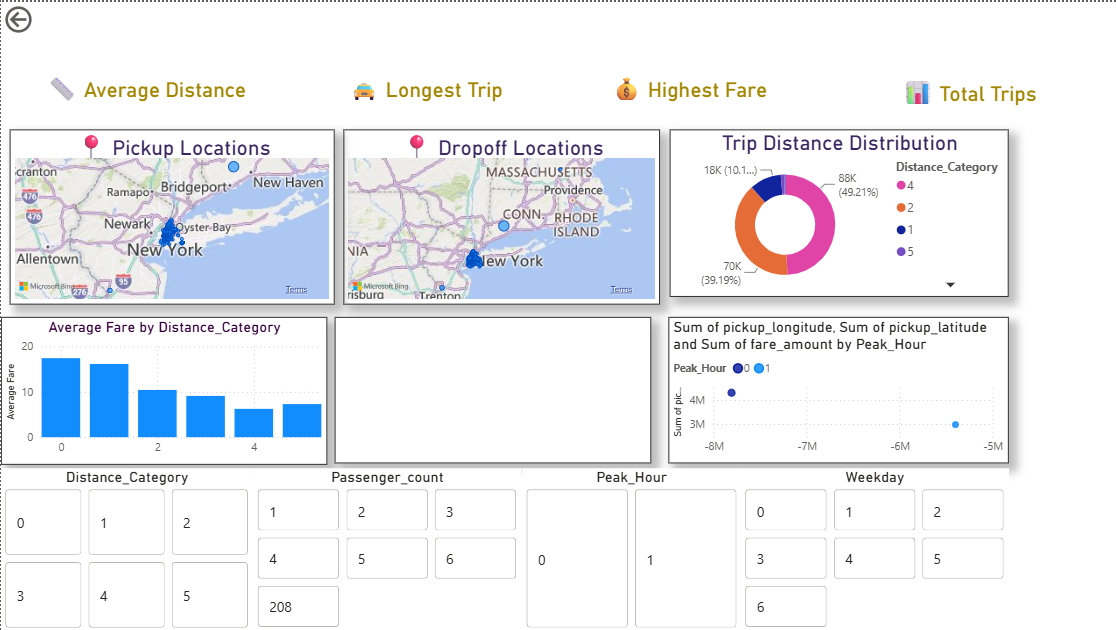

Layout of this report page (visuals, bound fields, positions):
{"tool":"powerbi","page":{"name":"Page 3","canvas":[1280,720],"ordinal":2},"visuals":[{"type":"kpi","title":"📏 Average Distance","fields":{"Indicator":["prediction_output.Average Distance"]},"box":[0,79.6,332.1,97.4],"z":0},{"type":"kpi","title":"💰 Highest Fare","fields":{"Indicator":["prediction_output.Highest Fare"]},"box":[640,80,292.5,87.5],"z":1000},{"type":"kpi","title":"📊 Total Trips","fields":{"Indicator":["prediction_output.Total Trips"]},"box":[932.5,85,347.5,43.8],"z":2000},{"type":"kpi","title":"🚖 Longest Trip","fields":{"Indicator":["prediction_output.Longest Trip"]},"box":[332.1,79.6,307.4,97.4],"z":3000},{"type":"map","title":"📍 Dropoff Locations","fields":{"Size":["Sum(prediction_output.fare_amount)"],"Y":["prediction_output.dropoff_latitude"],"X":["prediction_output.dropoff_longitude"]},"box":[391.2,145,361.2,200],"z":4000},{"type":"map","title":"📍 Pickup Locations","fields":{"Y":["prediction_output.pickup_latitude"],"X":["prediction_output.pickup_longitude"],"Size":["Sum(prediction_output.fare_amount)"]},"box":[10,145,371.2,200],"z":5000},{"type":"donutChart","title":"Trip Distance Distribution","fields":{"Category":["prediction_output.Distance_Category"],"Y":["prediction_output.Total Trips"]},"box":[763.8,145,387.5,191.2],"z":6000},{"type":"clusteredColumnChart","fields":{"Category":["prediction_output.Distance_Category"],"Y":["prediction_output.Average Fare"]},"box":[0,360,372.5,168.8],"z":7000},{"type":"tableEx","fields":{"Values":["Sum(prediction_output.fare_amount)","Sum(prediction_output.Distance_km)","Sum(prediction_output.passenger_count)","Sum(prediction_output.Weekday)"]},"box":[381.2,360,361.2,167.5],"z":8000},{"type":"actionButton","box":[0,0,100,40],"z":9000},{"type":"scatterChart","fields":{"X":["Sum(prediction_output.pickup_longitude)"],"Y":["Sum(prediction_output.pickup_latitude)"],"Size":["Sum(prediction_output.fare_amount)"],"Series":["prediction_output.Peak_Hour"]},"box":[762.5,360,388.8,167.5],"z":9001},{"type":"advancedSlicerVisual","fields":{"Values":["prediction_output.Distance_Category"]},"box":[0,532.5,288.8,187.5],"z":9002},{"type":"advancedSlicerVisual","title":"Passenger_count","fields":{"Values":["prediction_output.passenger_count"]},"box":[288.8,532.5,306.2,187.5],"z":9003},{"type":"advancedSlicerVisual","fields":{"Values":["prediction_output.Peak_Hour"]},"box":[595,532.5,250,187.5],"z":9004},{"type":"advancedSlicerVisual","fields":{"Values":["prediction_output.Weekday"]},"box":[845,532.5,306.2,187.5],"z":9005}]}

Visuals, with their boxes in screenshot pixels (x1, y1, x2, y2), scaled from the page's 1280x720 canvas onto the 1116x630 screenshot:
"📏 Average Distance" kpi: [0, 70, 290, 155]
"💰 Highest Fare" kpi: [558, 70, 813, 147]
"📊 Total Trips" kpi: [813, 74, 1115, 113]
"🚖 Longest Trip" kpi: [290, 70, 558, 155]
"📍 Dropoff Locations" map: [341, 127, 656, 302]
"📍 Pickup Locations" map: [9, 127, 332, 302]
"Trip Distance Distribution" donutChart: [666, 127, 1004, 294]
clusteredColumnChart - prediction_output.Distance_Category x prediction_output.Average Fare: [0, 315, 325, 463]
tableEx - Sum(prediction_output.fare_amount) x Sum(prediction_output.Distance_km): [332, 315, 647, 462]
actionButton: [0, 0, 87, 35]
scatterChart - Sum(prediction_output.pickup_longitude) x Sum(prediction_output.pickup_latitude): [665, 315, 1004, 462]
advancedSlicerVisual - prediction_output.Distance_Category: [0, 466, 252, 629]
"Passenger_count" advancedSlicerVisual: [252, 466, 519, 629]
advancedSlicerVisual - prediction_output.Peak_Hour: [519, 466, 737, 629]
advancedSlicerVisual - prediction_output.Weekday: [737, 466, 1004, 629]
